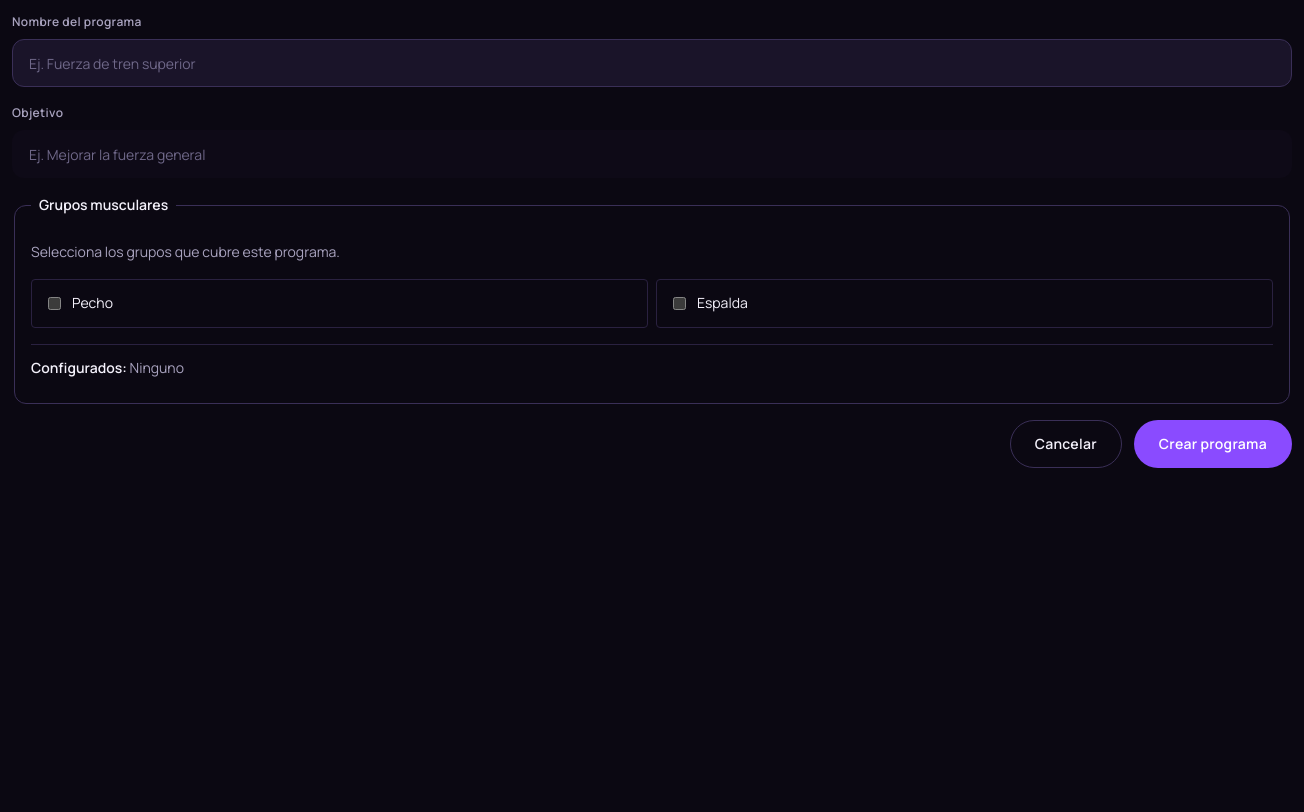
Scenario: TrainingProgramForm › requires name, objective and at least one muscle group
Click the button "Crear programa" at [1213, 444], box top-left (1134, 420), bottom-right (1292, 468)
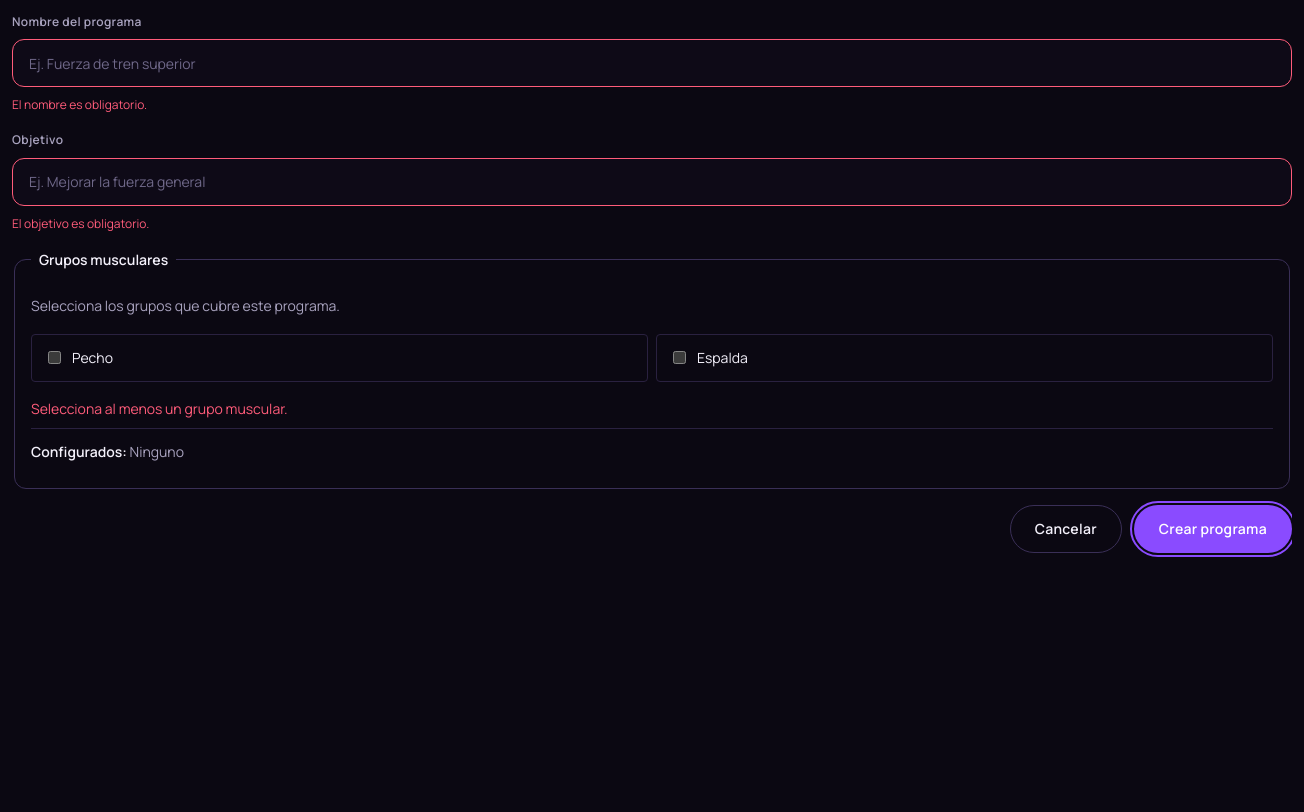
Expected: the text "El nombre es obligatorio." is shown, top-left (12, 96), bottom-right (147, 113)
Expected: the text "El objetivo es obligatorio." is shown, top-left (12, 215), bottom-right (149, 232)
Expected: the text "Selecciona al menos un grupo muscular." is shown, top-left (31, 399), bottom-right (288, 418)
